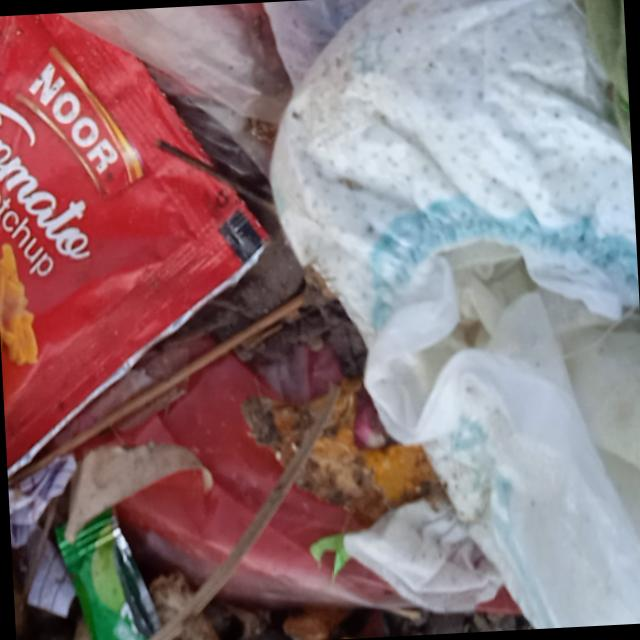electronic: (0, 2, 283, 490), (50, 501, 174, 640)
